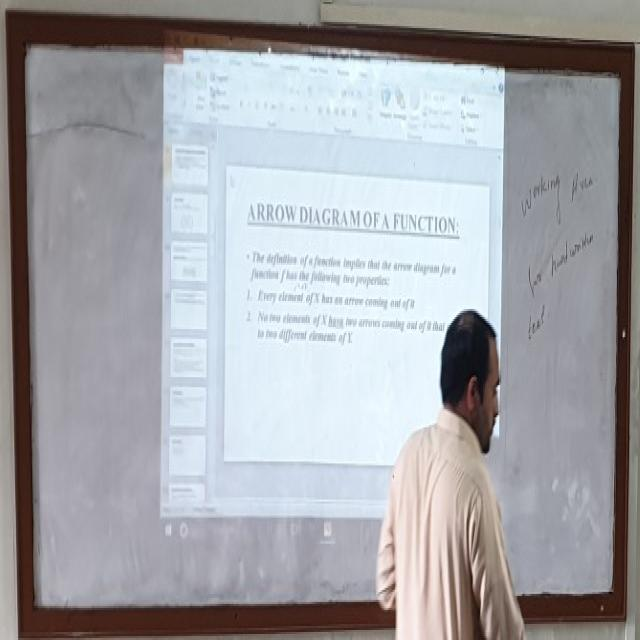Instructor: (395, 298, 521, 640)
Slide: (157, 31, 504, 562)
White-board: (12, 22, 626, 626)
